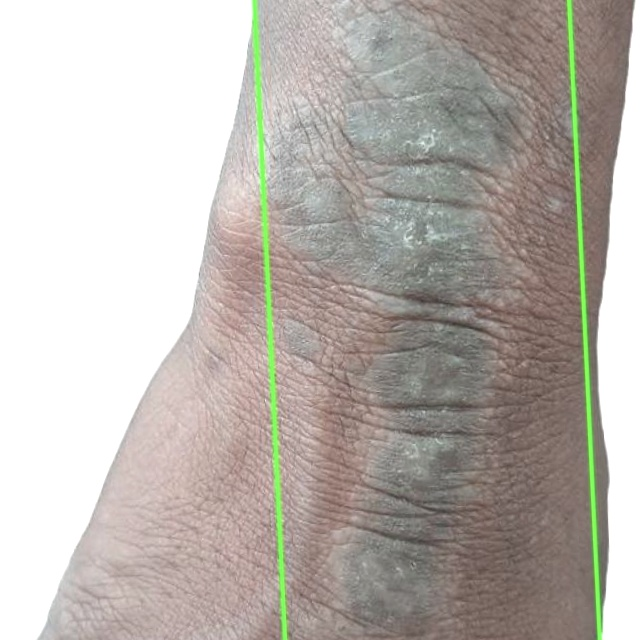Eczema: (0, 0, 285, 639), (569, 0, 639, 639)
